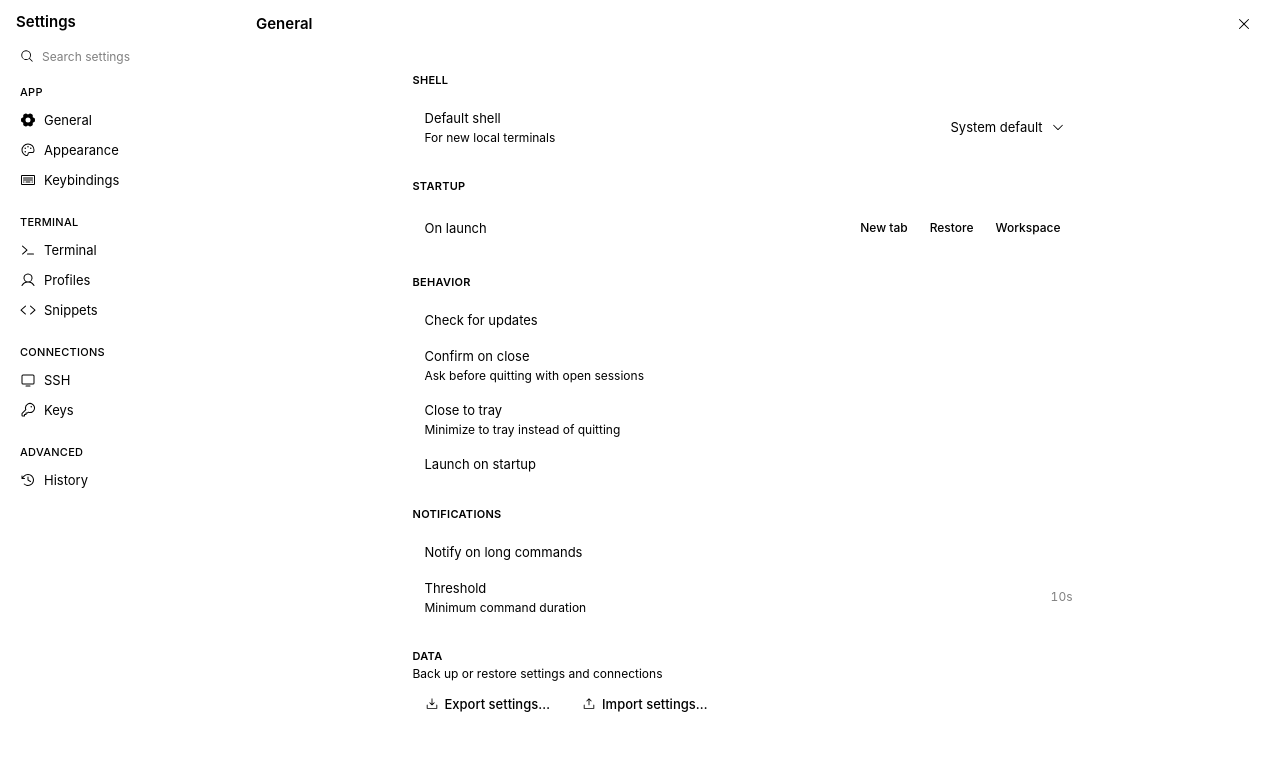
Test: SettingsView › searches settings by label and opens the first result with Enter
This screenshot has width=1280, height=779.
Type "scrollback" into the search field labelled "Search settings" at (127,56), box [42, 44, 212, 68]
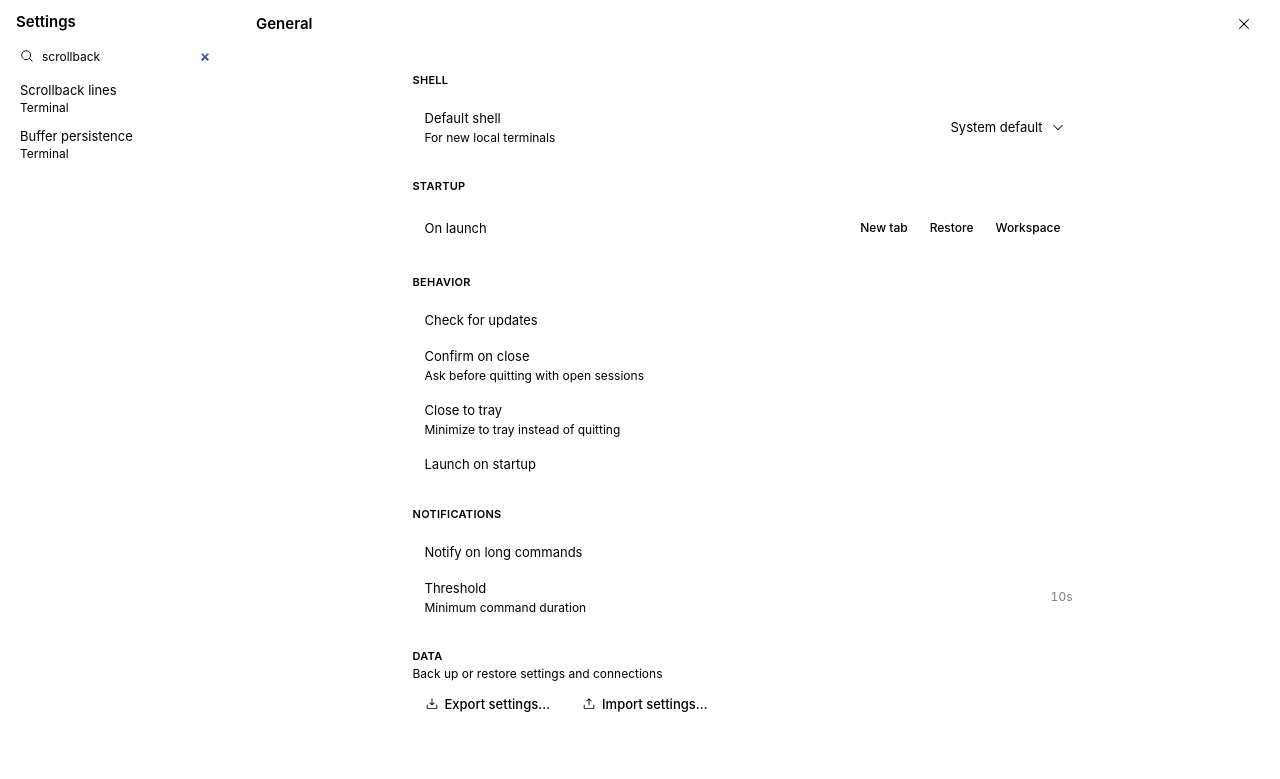
Expected: the button "Scrollback lines Terminal" is shown, [12, 76, 220, 120]
Press Enter
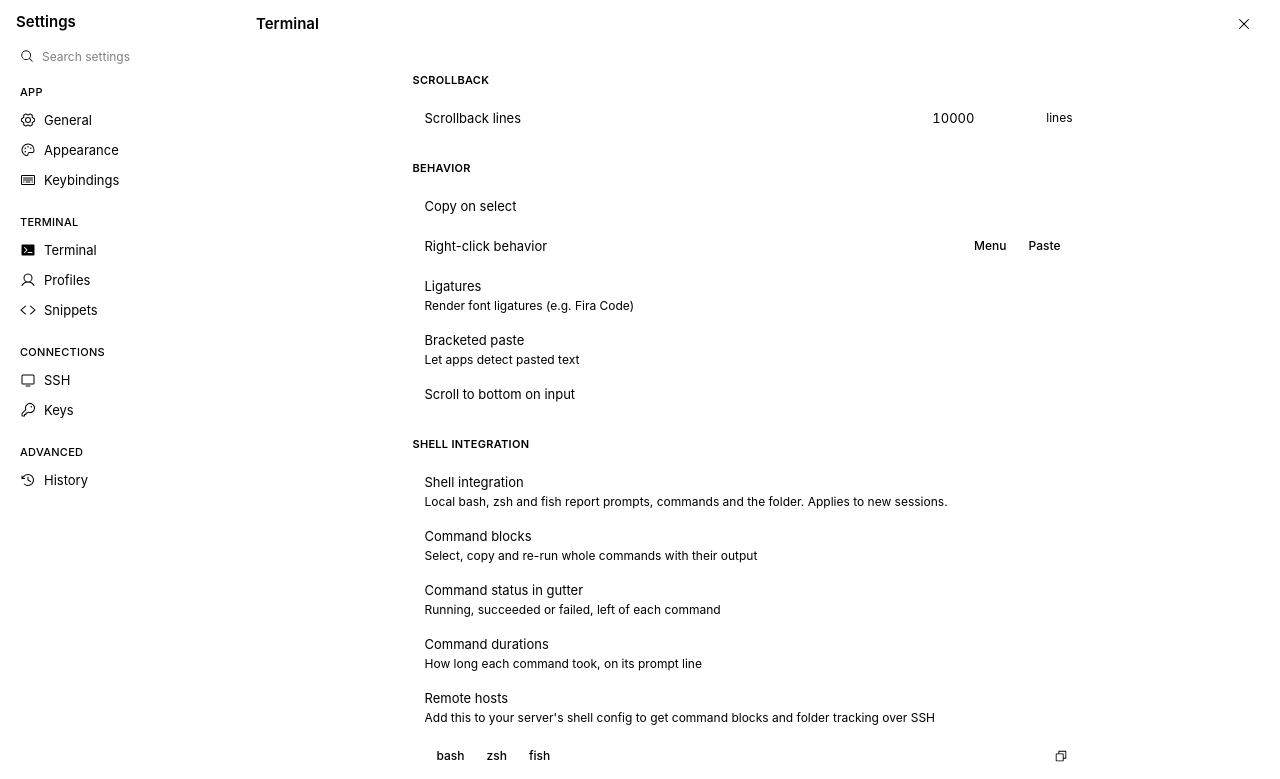
Expected: the heading "Terminal" is shown, [256, 14, 319, 34]
Expected: the search field labelled "Search settings" is empty, [42, 44, 212, 68]
